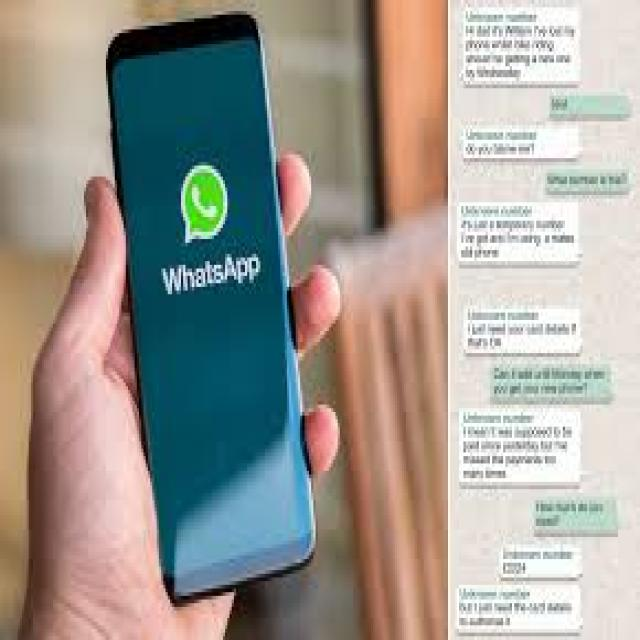text: (460, 402, 585, 480), (464, 12, 579, 83), (463, 302, 587, 355), (456, 202, 578, 255), (458, 584, 582, 636), (459, 128, 579, 156), (498, 542, 582, 576)
